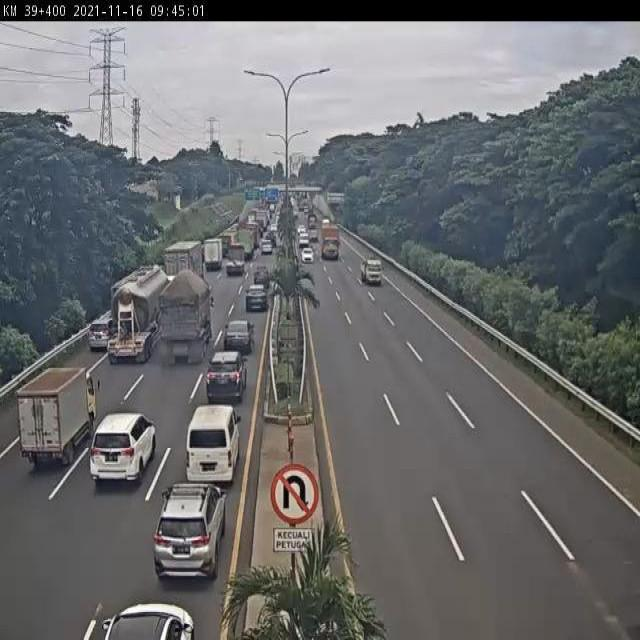car: (153, 487, 226, 580), (91, 412, 152, 483), (205, 354, 246, 406), (76, 323, 113, 360), (223, 319, 256, 353), (245, 289, 269, 316), (251, 268, 269, 293)
small bus: (187, 402, 243, 482)
small truck: (16, 367, 95, 465)
truck-l-: (151, 276, 211, 373), (158, 242, 203, 306)
truck-m-: (199, 237, 221, 275), (220, 247, 244, 281)
truck-xl-: (103, 266, 174, 371)
